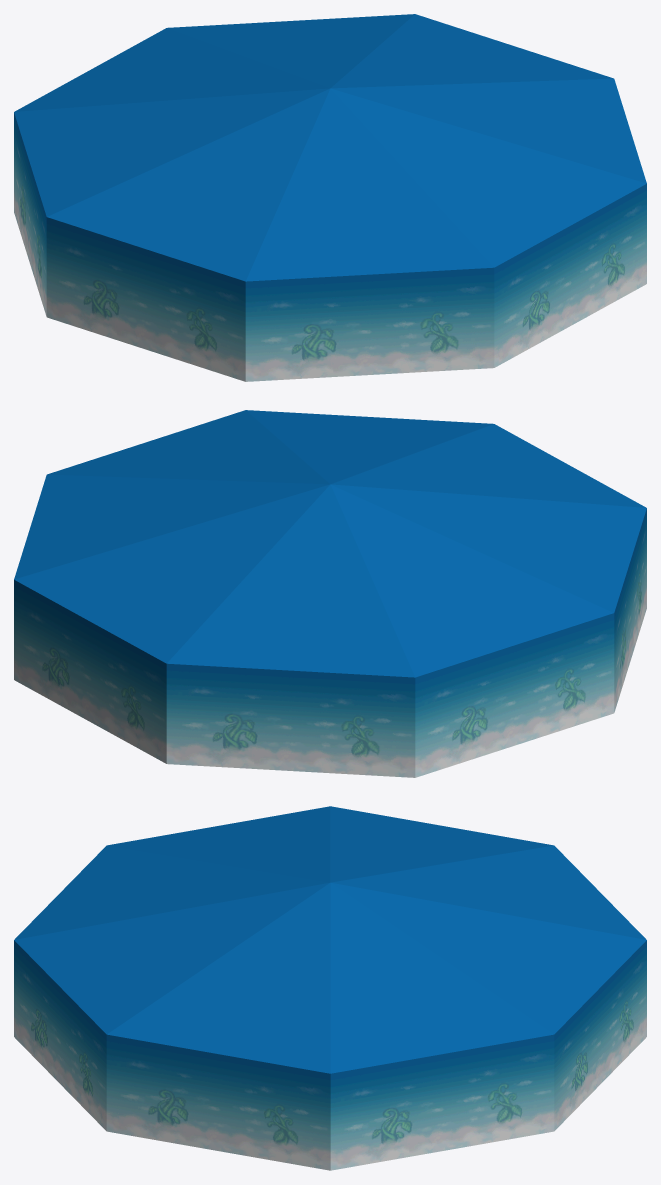
File: sky_garden.glb
The picture shows the model from 3 angles, top to bottom: view 1: azimuth 30°, elevation 25°; view 2: azimuth 150°, elevation 25°; view 3: azimuth 270°, elevation 25°; orthographic projection. The views are drawn at different scales.
Parts seen in each view (by area): view 1: polygon1.001; view 2: polygon1.001; view 3: polygon1.001.
Part boxes in pixels (<box>): polygon1.001: <box>14,14,646,381</box>; polygon1.001: <box>14,410,646,777</box>; polygon1.001: <box>14,806,646,1170</box>.
Size of the model in its own units: 625 by 168 by 625.
10 materials, 10 textured.
